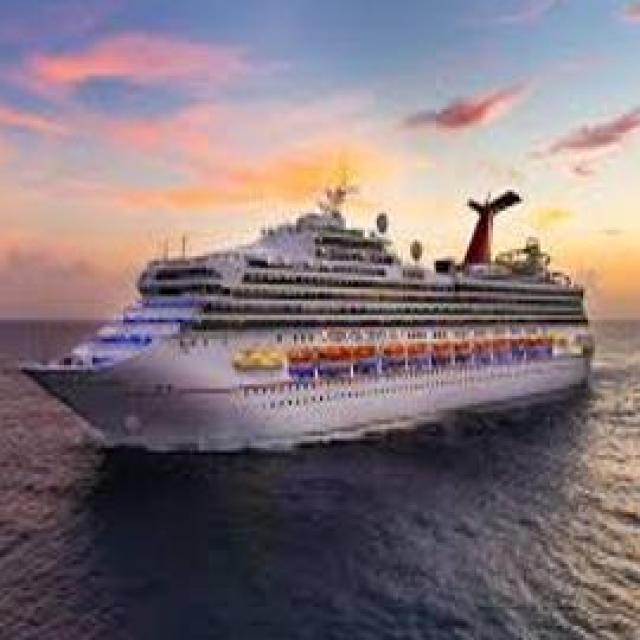passenger ship: (31, 170, 608, 456)
